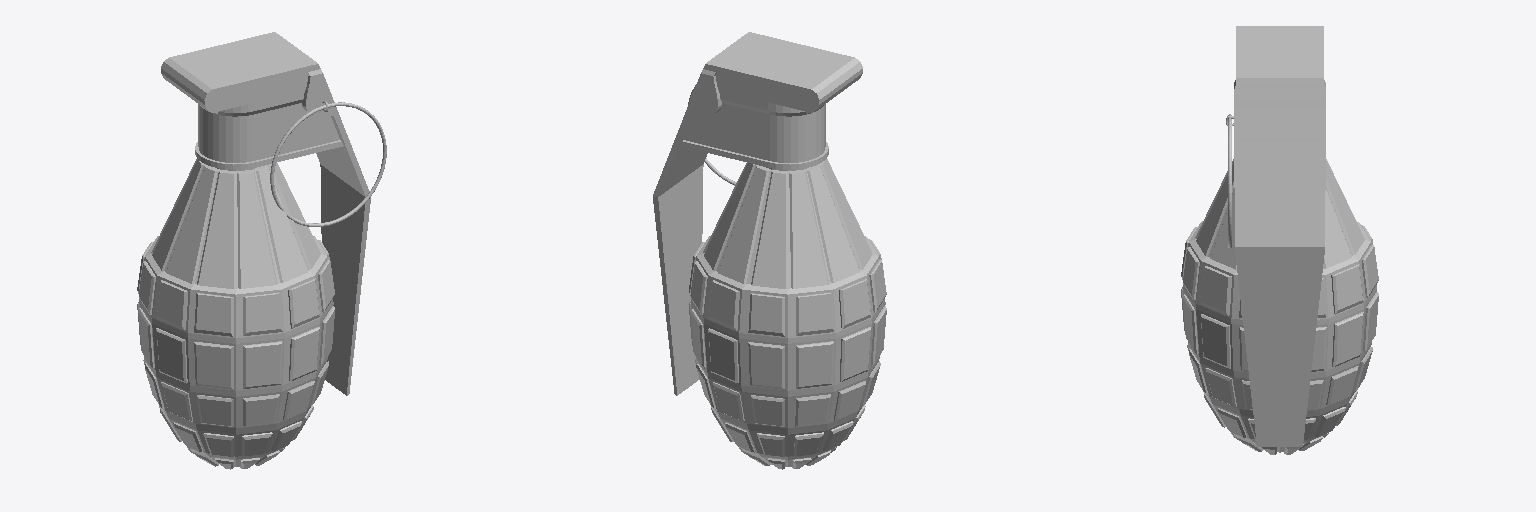
Rendered from Grenade.obj.
3 renders of one model, left to right at view 1: azimuth 30°, elevation 25°; view 2: azimuth 150°, elevation 25°; view 3: azimuth 270°, elevation 25°, orthographic.
Visible parts, largest first — view 1: Grenade; view 2: Grenade; view 3: Grenade.
Part boxes in pixels (x1,y1,x2,y2): Grenade: (137,32,386,469); Grenade: (653,32,886,469); Grenade: (1181,26,1378,454).
Size of the model in its own units: 2.66 by 4.77 by 2.16.